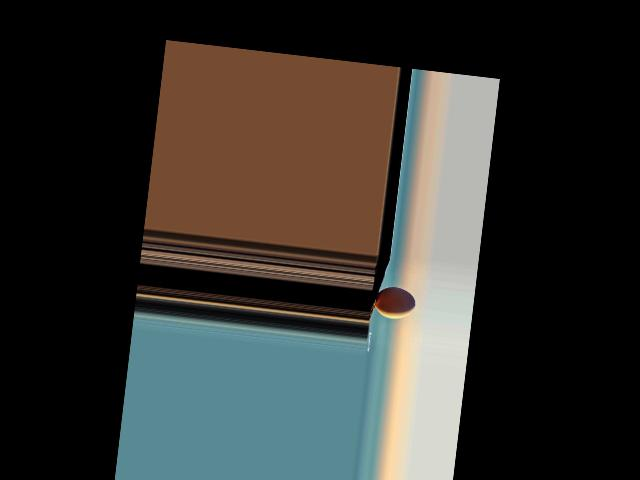egg: (373, 285, 417, 321)
